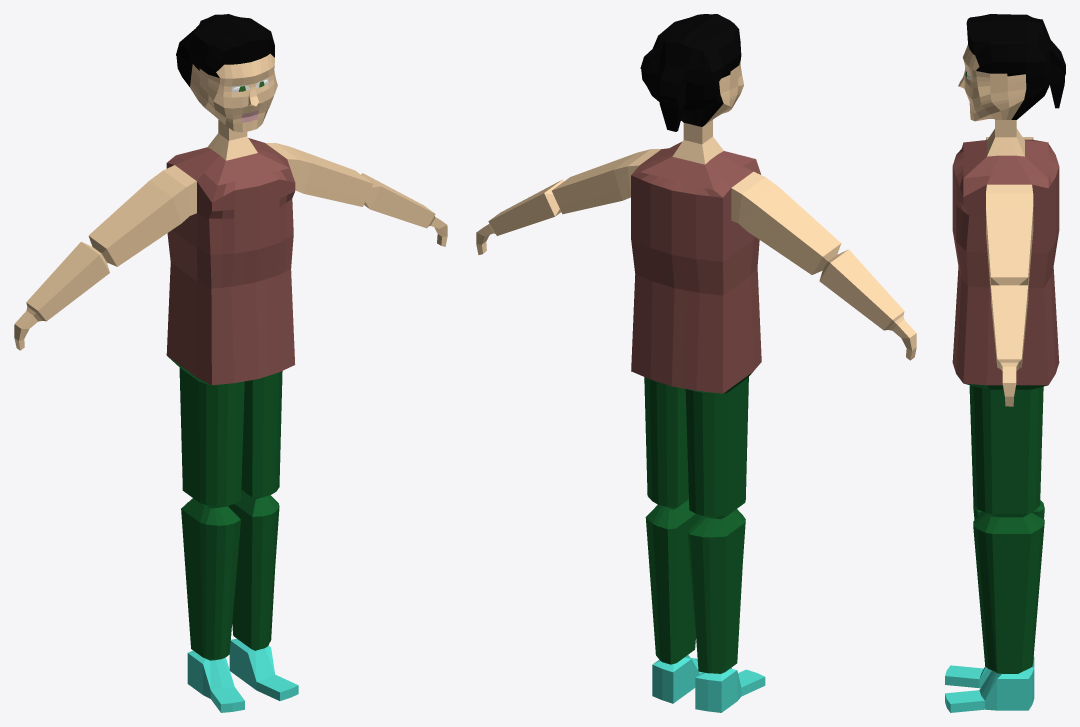
Rendered from UZUN_SACLI_ADAMI.fbx.
3 renders of one model, left to right at view 1: azimuth 30°, elevation 25°; view 2: azimuth 150°, elevation 25°; view 3: azimuth 270°, elevation 25°, orthographic. The views are drawn at different scales.
Parts seen in each view (by area): view 1: tşört, kol, KOL, Cube, KOL.001, ayakkabı, SAÇ; view 2: tşört, kol, KOL, SAÇ, KOL.001, ayakkabı, Cube; view 3: kol, tşört, KOL.001, SAÇ, Cube, ayakkabı, el.001.
Part boxes in pixels (x1,y1,x2,y2): tşört: (166,138,295,385); kol: (168,357,282,660); KOL: (26,165,196,321); Cube: (190,53,277,160); KOL.001: (265,143,435,228); ayakkabı: (187,638,298,712); SAÇ: (176,14,274,86); tşört: (631,142,761,393); kol: (644,371,753,673); KOL: (731,171,904,330); SAÇ: (640,14,741,131); KOL.001: (488,149,661,235); ayakkabı: (652,655,765,712); Cube: (672,59,743,164); kol: (964,383,1047,673); tşört: (952,139,1059,385); KOL.001: (986,184,1033,368); SAÇ: (966,14,1065,119); Cube: (958,45,1026,156); ayakkabı: (945,656,1034,712); el.001: (1000,362,1018,406).
Bounding box in the file's own units: 141 × 207 × 33.77.
